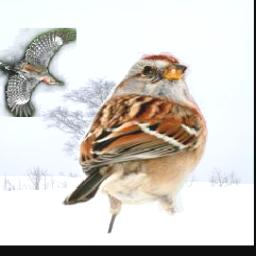Sparrow: (62, 53, 208, 236)
Woodpecker: (0, 29, 76, 118)
